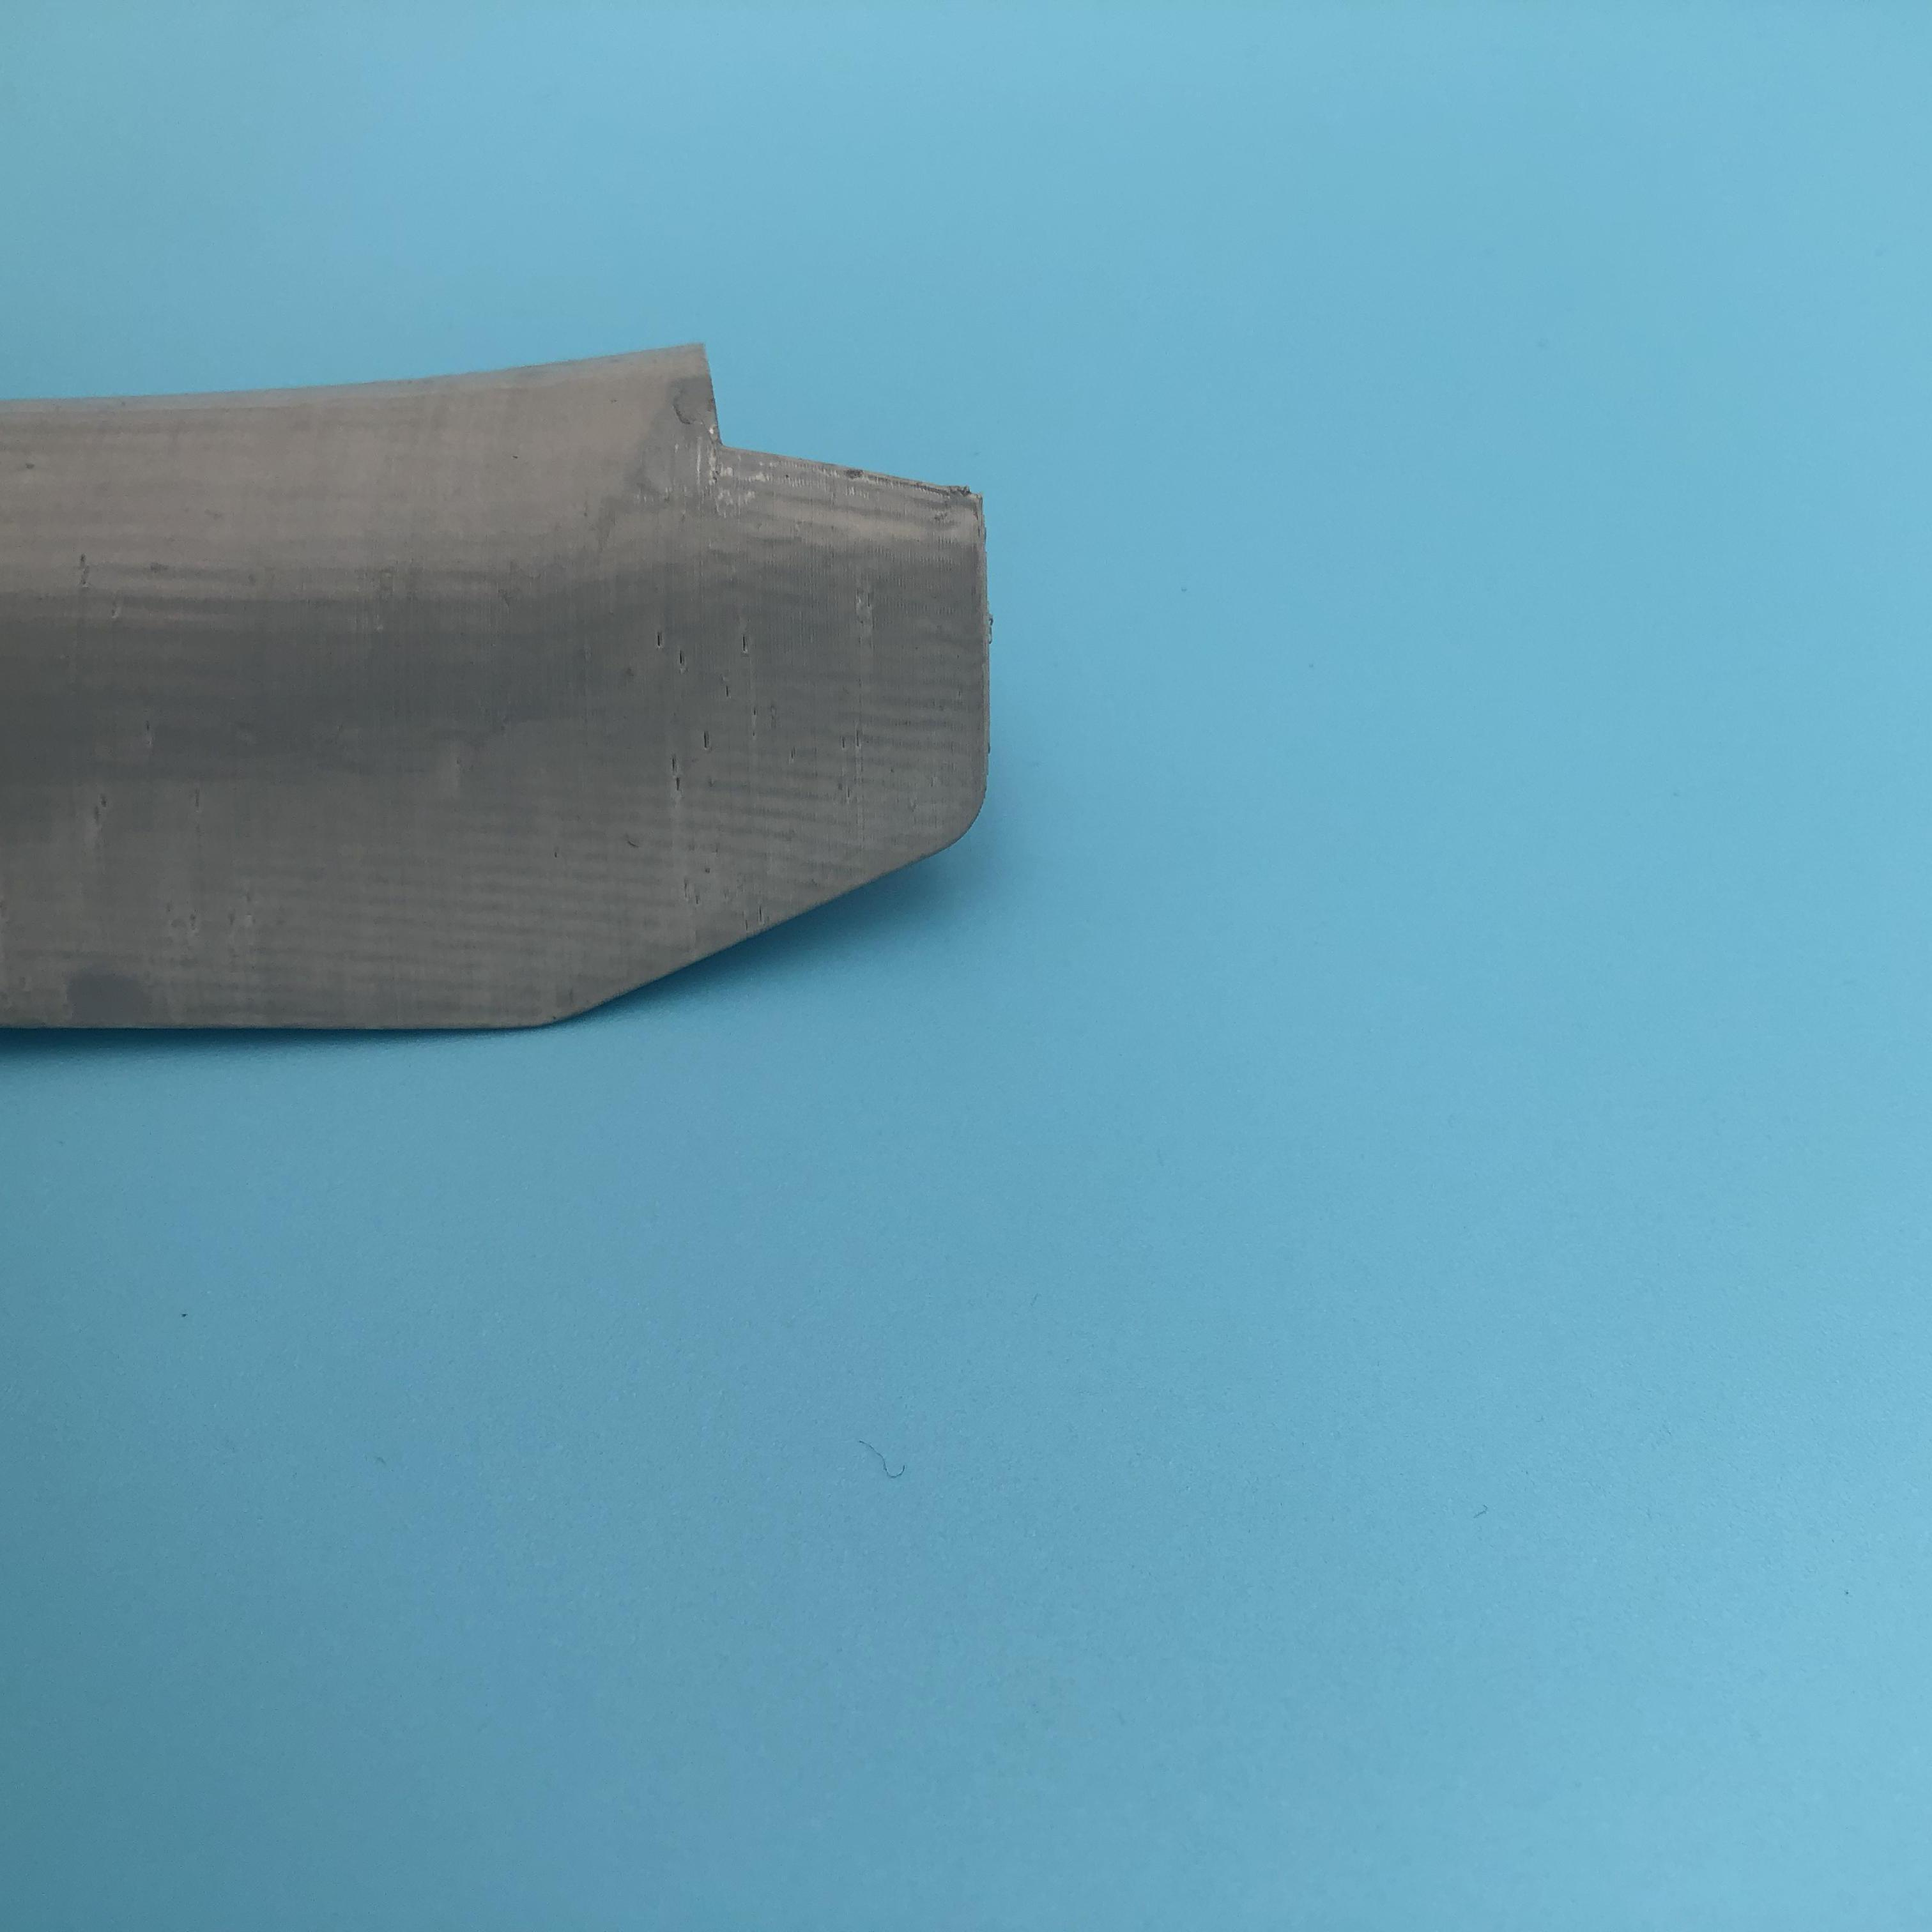fracture: (694, 347, 962, 515)
